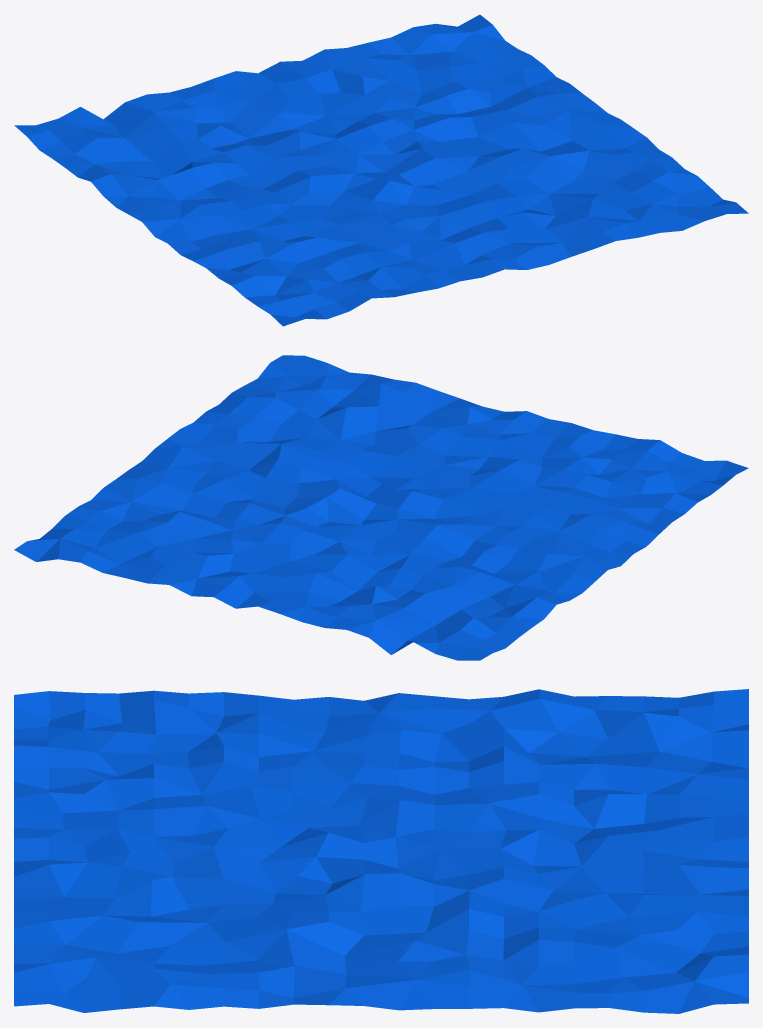
File: water.glb
3 renders of one model, top to bottom at view 1: azimuth 30°, elevation 25°; view 2: azimuth 150°, elevation 25°; view 3: azimuth 270°, elevation 25°, orthographic. The views are drawn at different scales.
Visible parts, largest first — view 1: Water; view 2: Water; view 3: Water.
Boxes of the visible parts, x1,y1,x2,y2 form: Water: (14,14,748,326); Water: (14,355,748,660); Water: (14,689,748,1013).
Bounding box in the file's own units: 22.52 × 0.9458 × 22.52.
